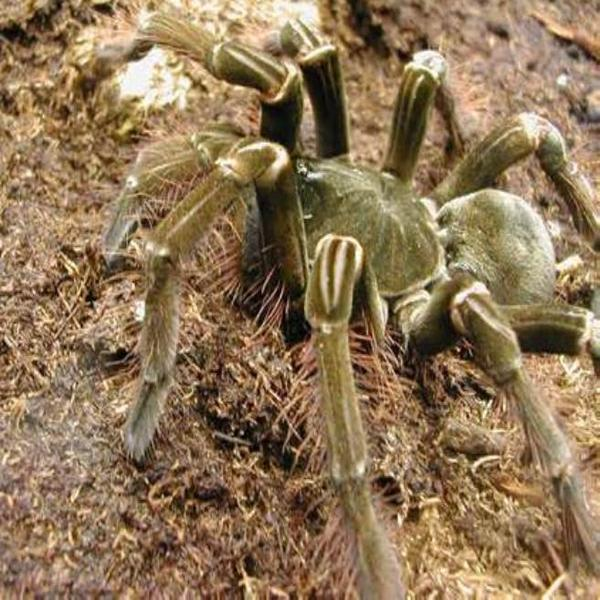Tarantula Spider: (101, 10, 578, 567)
